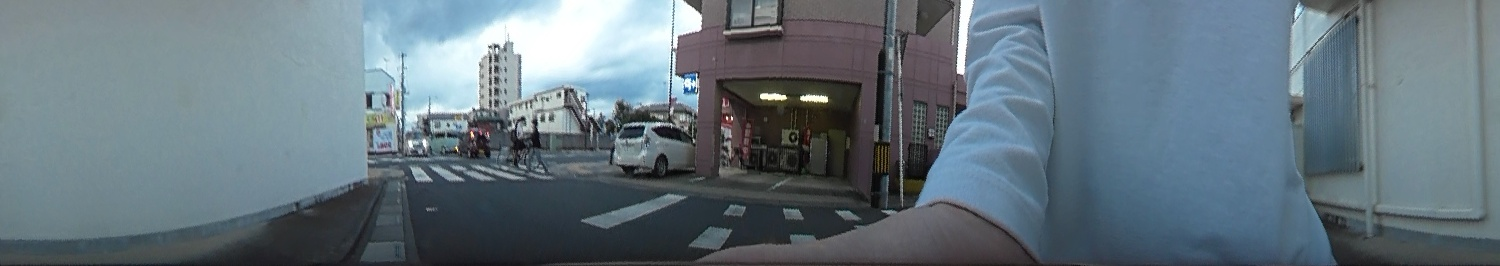difficult_person: (526, 114, 544, 171), (509, 112, 527, 161)
